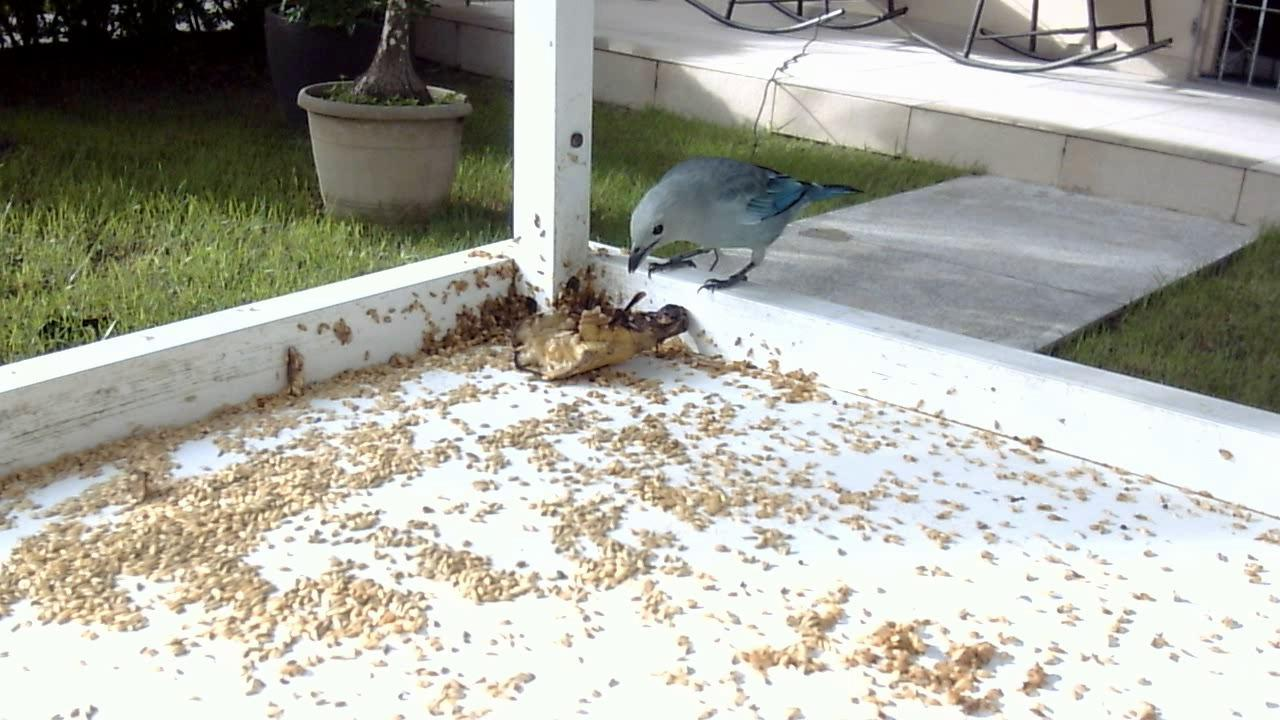sanhaco_da_amazonia: (619, 141, 868, 307)
